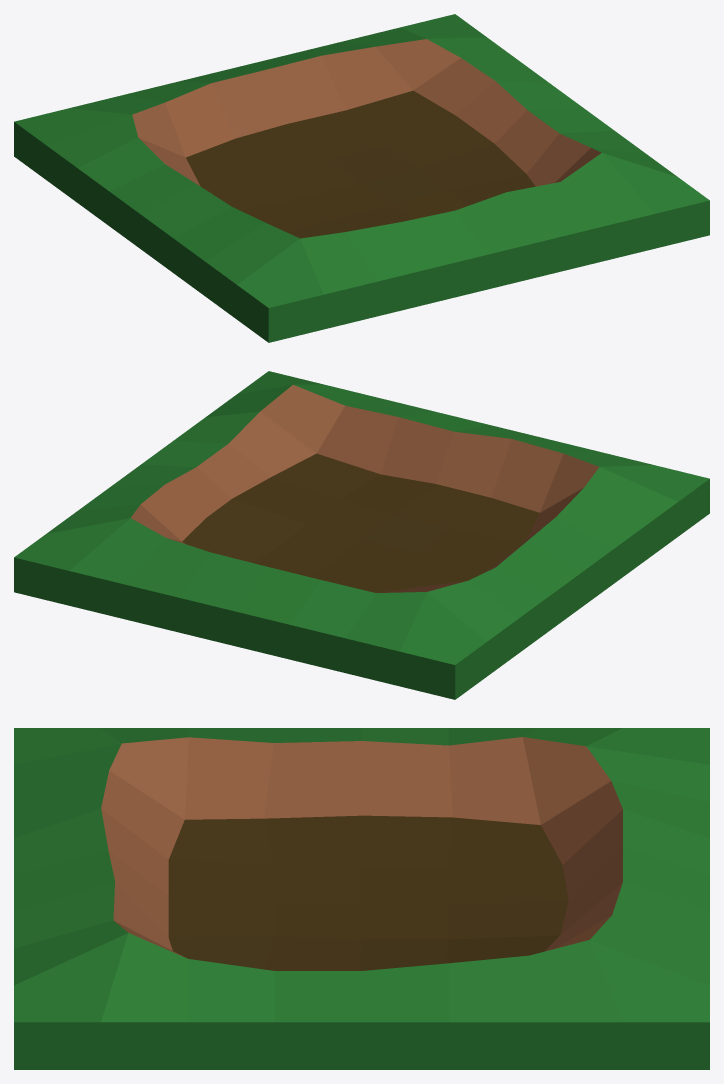
The model's file is Lake.fbx.
3 renders of one model, top to bottom at view 1: azimuth 30°, elevation 25°; view 2: azimuth 150°, elevation 25°; view 3: azimuth 270°, elevation 25°, orthographic. The views are drawn at different scales.
Visible parts, largest first — view 1: Lake_T1; view 2: Lake_T1; view 3: Lake_T1.
Boxes of the visible parts, x1=… form: Lake_T1: x1=14, y1=14, x2=709, y2=342; Lake_T1: x1=14, y1=371, x2=709, y2=699; Lake_T1: x1=14, y1=728, x2=709, y2=1069.
Bounding box in the file's own units: 200 × 29.45 × 200.
